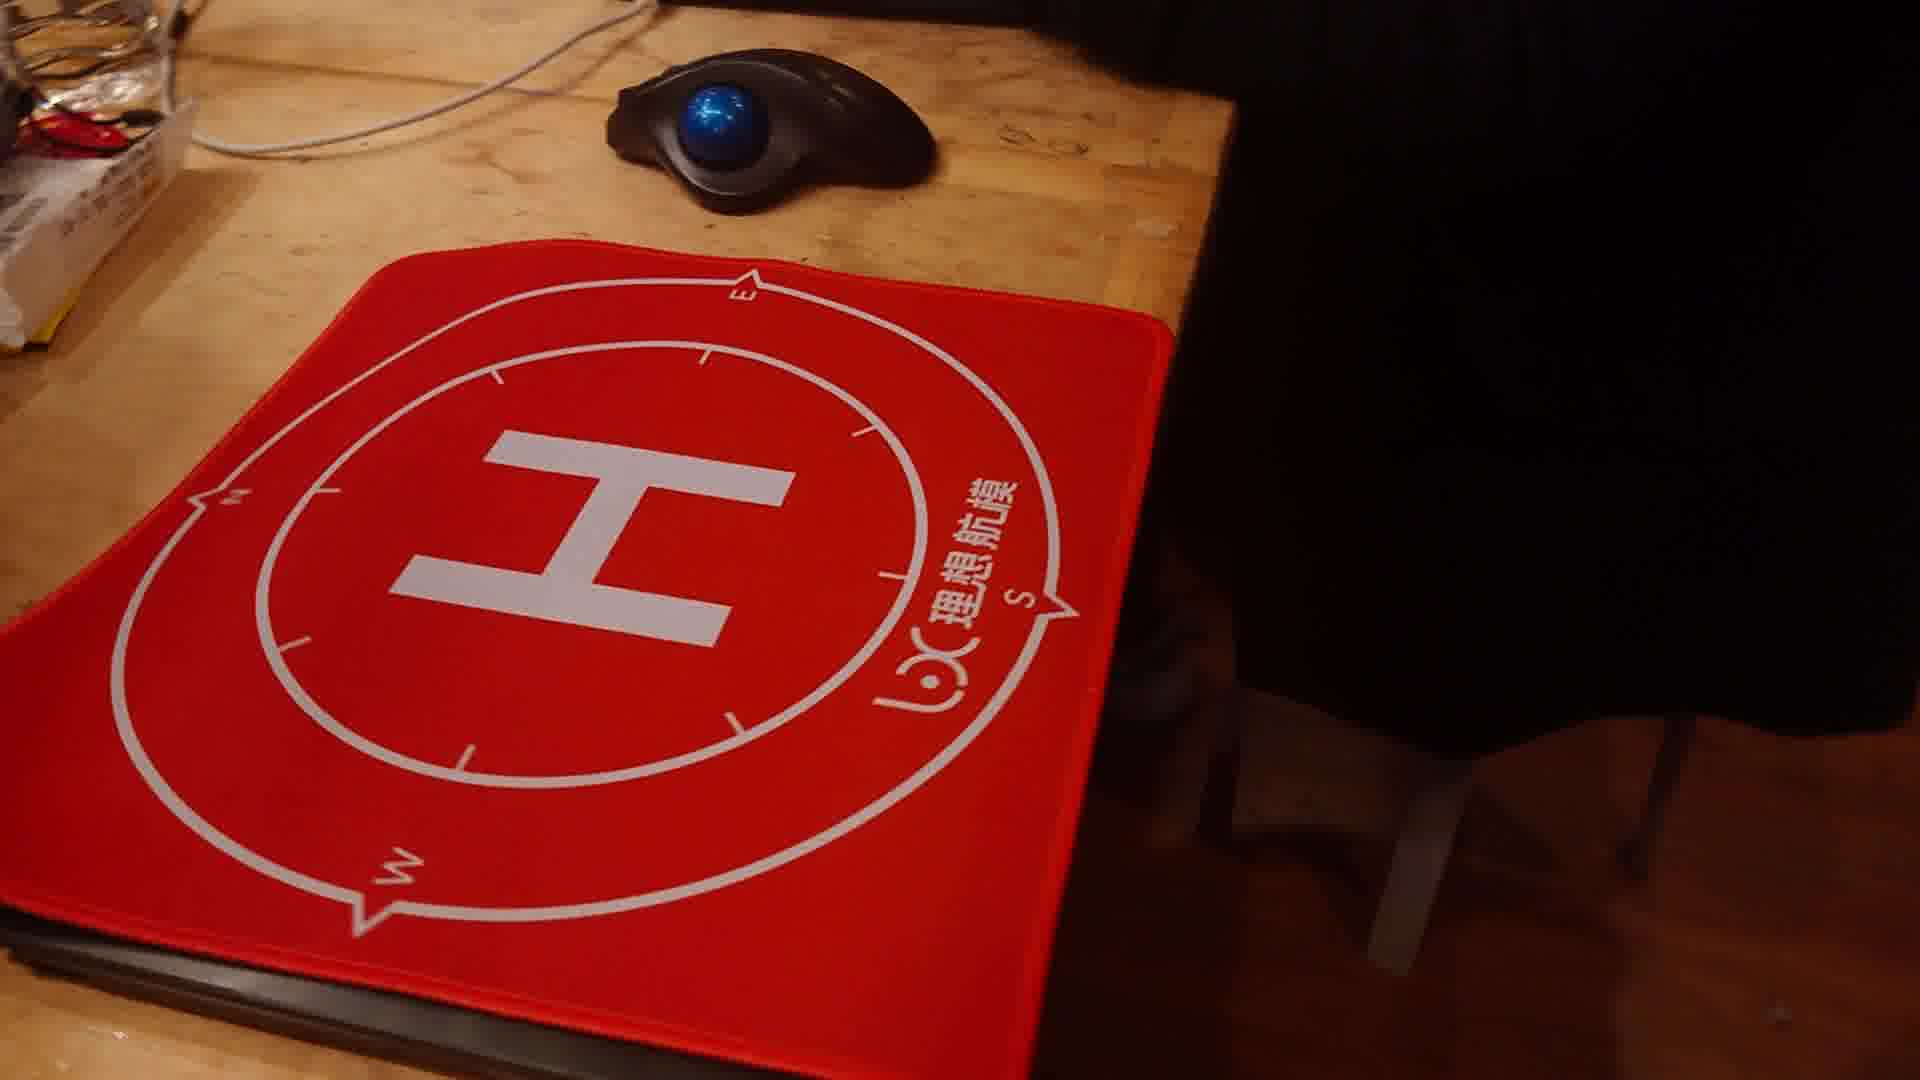H: (382, 425, 799, 649)
